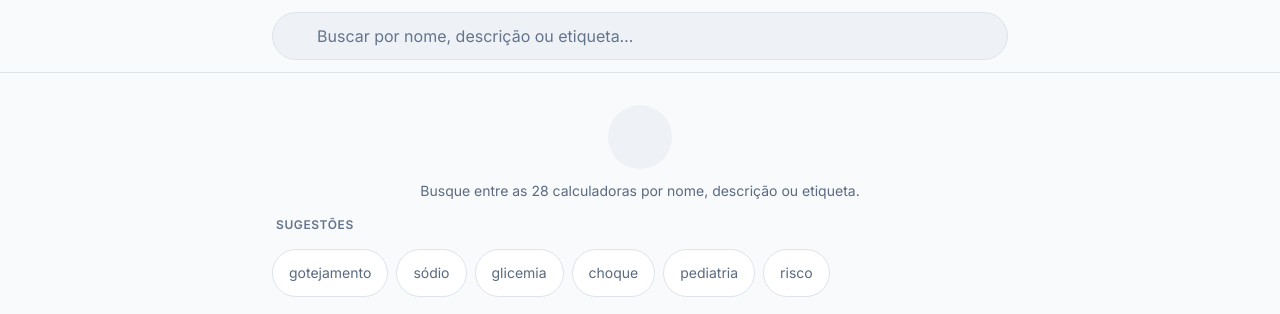
Test: SearchView › shows an empty state when nothing matches
Step 1. Type "zzzzqqq" into the search field with placeholder "Buscar por nome, descrição ou etiqueta…" → {"x": 640, "y": 36}, box [272,12,1008,60]
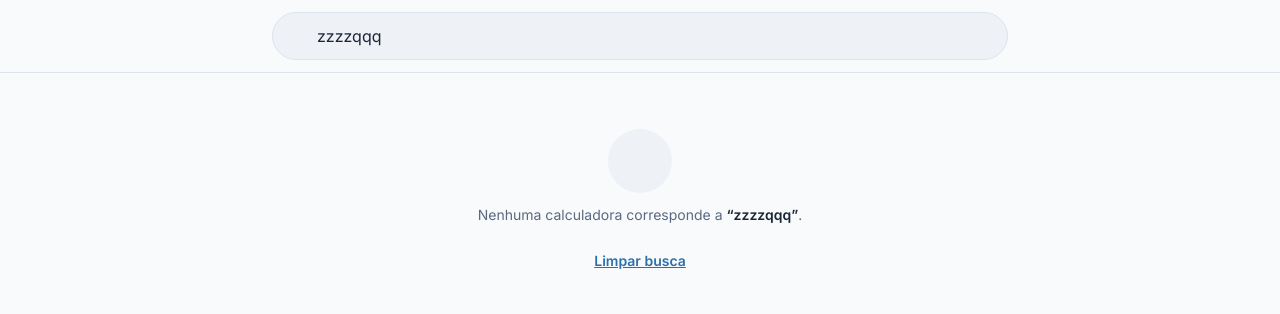
Check: the text "Nenhuma calculadora corresponde" is shown, box [478,206,726,223]
